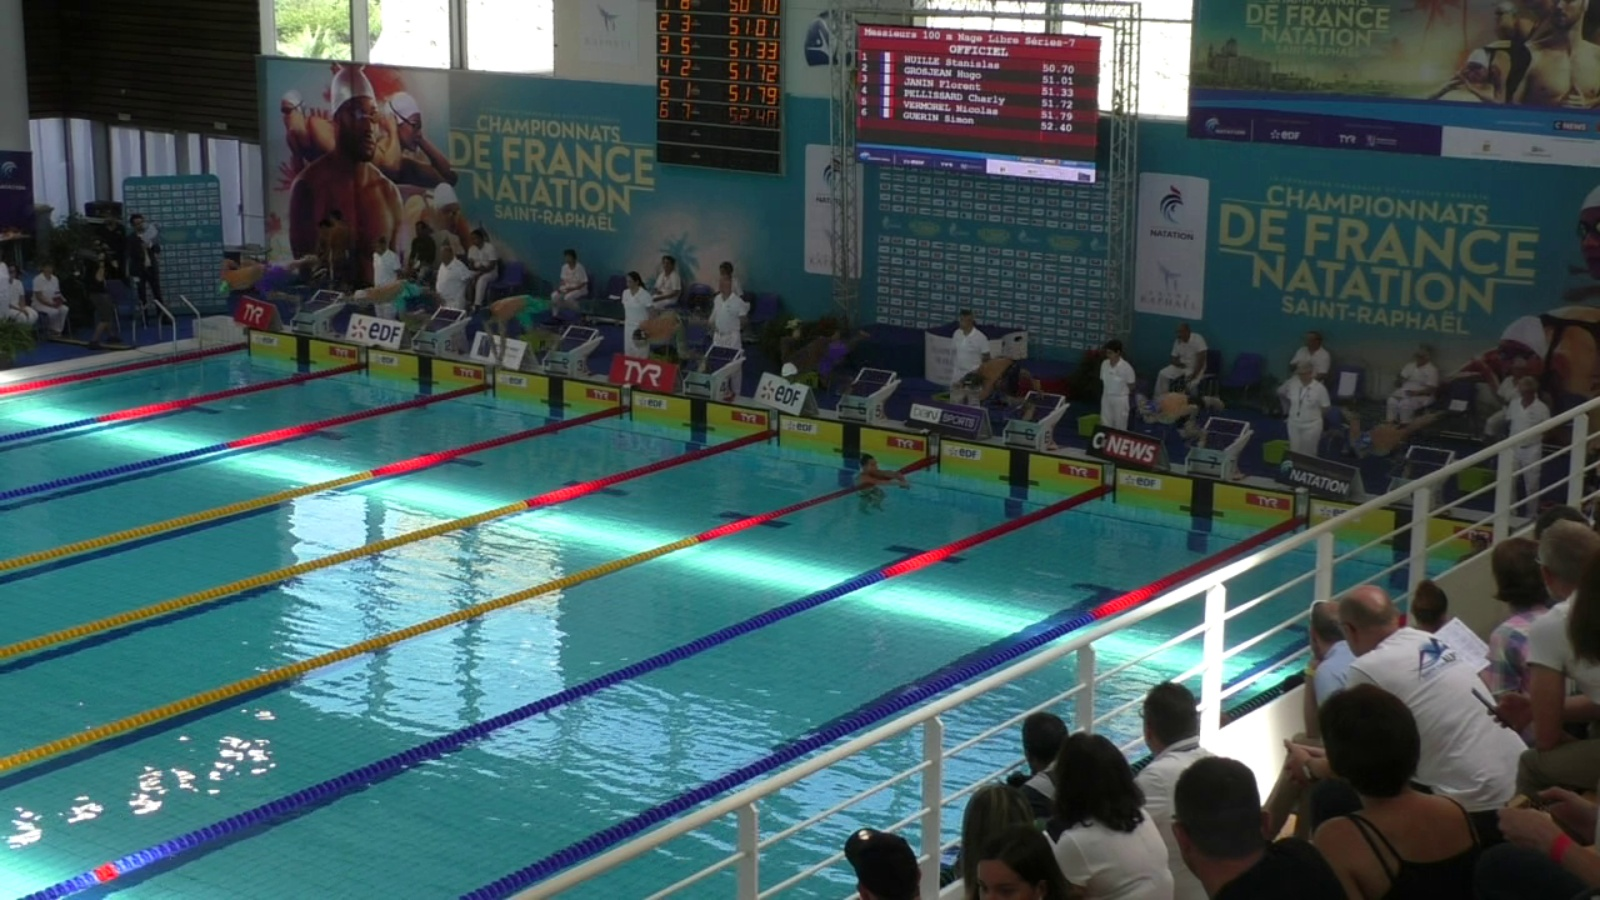swimmerw: (782, 329, 862, 403), (1337, 405, 1438, 464), (957, 349, 1041, 420), (625, 307, 713, 373), (1138, 387, 1221, 445), (855, 448, 913, 523), (482, 300, 538, 376), (219, 260, 326, 296), (337, 281, 438, 308)
